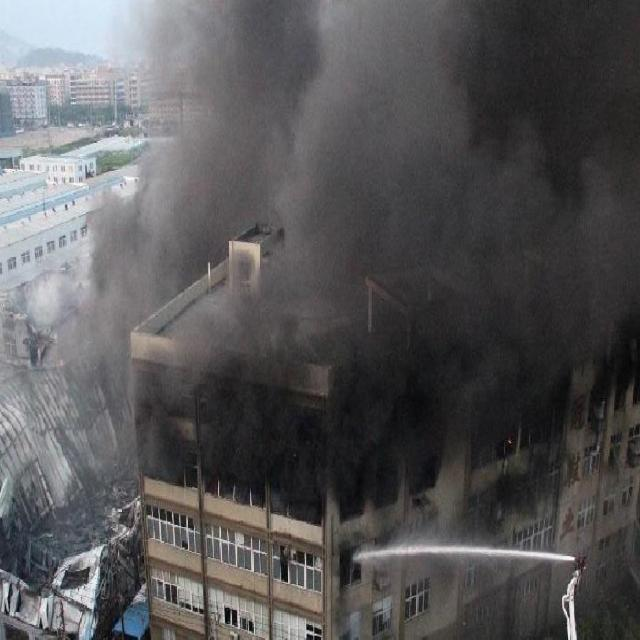Smoke: (138, 1, 640, 480), (25, 0, 327, 406)
